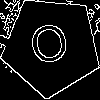O: (26, 21, 74, 75)
